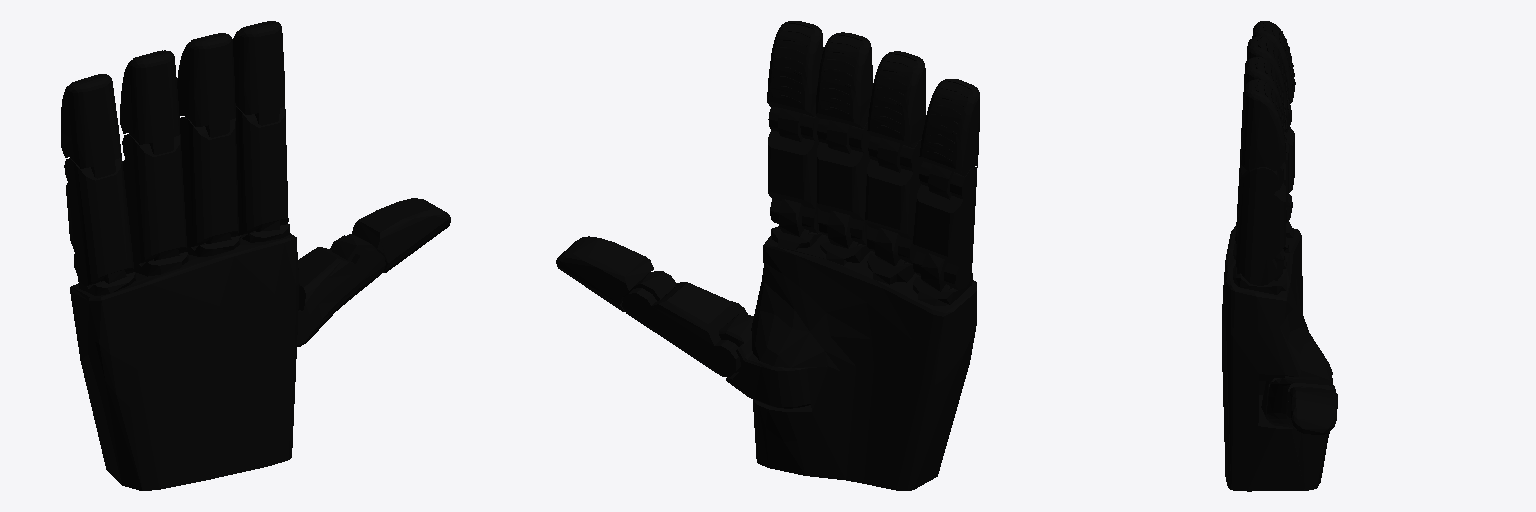
robot.urdf — Left_Hand_C:
<?xml version="1.0"?>
<robot name="Left_Hand_C">

<link name="base_link">
    <inertial>
      <mass value="0.168" />
      <origin xyz="0.00336 0.00299 0.04736" />
      <inertia ixx="0.00016" ixy="0.00000" ixz="0.00002" iyy="0.00025" iyz="0.00001" izz="0.00012" />
    </inertial>
    <visual>
      <geometry>
        <mesh filename="package://igris_c_description_public/meshes/igris_c_hand/Palm_Left.stl" scale="0.01 0.01 0.01"/>
      </geometry>
      <material name="random">
        <color rgba="0.0706 0.0706 0.0706 0.7" />
      </material>
    </visual>
    <collision>
      <geometry>
        <mesh filename="package://igris_c_description_public/meshes/igris_c_hand/Palm_Left.stl" scale="0.01 0.01 0.01"/>
      </geometry>
    </collision>
</link>

<link name="Link_Thumb_Proximal">
    <inertial>
      <mass value="0.018" />
      <origin xyz="0.00704 0.00005 0.01031" />
      <inertia ixx="0.00001" ixy="0.00000" ixz="0.00000" iyy="0.00001" iyz="0.00000" izz="0.00001" />
    </inertial>
    <visual>
      <geometry>
        <mesh filename="package://igris_c_description_public/meshes/igris_c_hand/Thumb_Proximal_Left.stl" scale="0.01 0.01 0.01"/>
      </geometry>
      <material name="random">
        <color rgba="0.0706 0.0706 0.0706 0.7" />
      </material>
    </visual>
    <collision>
      <geometry>
        <mesh filename="package://igris_c_description_public/meshes/igris_c_hand/Thumb_Proximal_Left.stl" scale="0.01 0.01 0.01"/>
      </geometry>
    </collision>
  </link>

  <link name="Link_Thumb_Middle">
    <inertial>
      <mass value="0.019" />
      <origin xyz="0.00154 0.00041 0.01911" />
      <inertia ixx="0.00001" ixy="0.00000" ixz="0.00000" iyy="0.00001" iyz="0.00000" izz="0.00001" />
    </inertial>
    <visual>
      <geometry>
        <mesh filename="package://igris_c_description_public/meshes/igris_c_hand/Thumb_Middle_Left.stl" scale="0.01 0.01 0.01"/>
      </geometry>
      <material name="random">
        <color rgba="0.0706 0.0706 0.0706 0.7" />
      </material>
    </visual>
    <collision>
      <geometry>
        <mesh filename="package://igris_c_description_public/meshes/igris_c_hand/Thumb_Middle_Left.stl" scale="0.01 0.01 0.01"/>
      </geometry>
    </collision>
  </link>

  <link name="Link_Thumb_Distal">
    <inertial>
      <mass value="0.011" />
      <origin xyz="0.00017 -0.00047 0.01843" />
      <inertia ixx="0.00001" ixy="0.00000" ixz="0.00000" iyy="0.00001" iyz="0.00000" izz="0.00001" />
    </inertial>
    <visual>
      <geometry>
        <mesh filename="package://igris_c_description_public/meshes/igris_c_hand/Thumb_Distal_Left.stl" scale="0.01 0.01 0.01"/>
      </geometry>
      <material name="random">
        <color rgba="0.0706 0.0706 0.0706 0.7" />
      </material>
    </visual>
    <collision>
      <geometry>
        <mesh filename="package://igris_c_description_public/meshes/igris_c_hand/Thumb_Distal_Left.stl" scale="0.01 0.01 0.01"/>
      </geometry>
    </collision>
  </link>

  <link name="Link_Index_Middle">
    <inertial>
      <mass value="0.018" />
      <origin xyz="0.00010 0.00031 0.02005" />
      <inertia ixx="0.00001" ixy="0.00000" ixz="0.00000" iyy="0.00001" iyz="0.00000" izz="0.00001" />
    </inertial>
    <visual>
      <geometry>
        <mesh filename="package://igris_c_description_public/meshes/igris_c_hand/Finger_Middle.stl" scale="0.01 0.01 0.01"/>
      </geometry>
      <material name="random">
        <color rgba="0.0706 0.0706 0.0706 0.7" />
      </material>
    </visual>
    <collision>
      <geometry>
        <mesh filename="package://igris_c_description_public/meshes/igris_c_hand/Finger_Middle.stl" scale="0.01 0.01 0.01"/>
      </geometry>
    </collision>
  </link>

   <link name="Link_Middle_Middle">
    <inertial>
      <mass value="0.018" />
      <origin xyz="0.00010 0.00031 0.02005" />
      <inertia ixx="0.00001" ixy="0.00000" ixz="0.00000" iyy="0.00001" iyz="0.00000" izz="0.00001" />
    </inertial>
    <visual>
      <geometry>
        <mesh filename="package://igris_c_description_public/meshes/igris_c_hand/Finger_Middle.stl" scale="0.01 0.01 0.01"/>
      </geometry>
      <material name="random">
        <color rgba="0.0706 0.0706 0.0706 0.7" />
      </material>
    </visual>
    <collision>
      <geometry>
        <mesh filename="package://igris_c_description_public/meshes/igris_c_hand/Finger_Middle.stl" scale="0.01 0.01 0.01"/>
      </geometry>
    </collision>
  </link>

<link name="Link_Ring_Middle">
    <inertial>
      <mass value="0.018" />
      <origin xyz="0.00010 0.00031 0.02005" />
      <inertia ixx="0.00001" ixy="0.00000" ixz="0.00000" iyy="0.00001" iyz="0.00000" izz="0.00001" />
    </inertial>
    <visual>
      <geometry>
        <mesh filename="package://igris_c_description_public/meshes/igris_c_hand/Finger_Middle.stl" scale="0.01 0.01 0.01"/>
      </geometry>
      <material name="random">
        <color rgba="0.0706 0.0706 0.0706 0.7" />
      </material>
    </visual>
    <collision>
      <geometry>
        <mesh filename="package://igris_c_description_public/meshes/igris_c_hand/Finger_Middle.stl" scale="0.01 0.01 0.01"/>
      </geometry>
    </collision>
  </link>

 <link name="Link_Little_Middle">
    <inertial>
      <mass value="0.018" />
      <origin xyz="0.00010 0.00031 0.02005" />
      <inertia ixx="0.00001" ixy="0.00000" ixz="0.00000" iyy="0.00001" iyz="0.00000" izz="0.00001" />
    </inertial>
    <visual>
      <geometry>
        <mesh filename="package://igris_c_description_public/meshes/igris_c_hand/Finger_Middle.stl" scale="0.01 0.01 0.01"/>
      </geometry>
      <material name="random">
        <color rgba="0.0706 0.0706 0.0706 0.7" />
      </material>
    </visual>
    <collision>
      <geometry>
        <mesh filename="package://igris_c_description_public/meshes/igris_c_hand/Finger_Middle.stl" scale="0.01 0.01 0.01"/>
      </geometry>
    </collision>
  </link>

 <link name="Link_Index_Distal">
    <inertial>
      <mass value="0.012" />
      <origin xyz="0.00013 -0.00035 0.01857" />
      <inertia ixx="0.00001" ixy="0.00000" ixz="0.00000" iyy="0.00001" iyz="0.00000" izz="0.00001" />
    </inertial>
    <visual>
      <geometry>
        <mesh filename="package://igris_c_description_public/meshes/igris_c_hand/Finger_Distal.stl" scale="0.01 0.01 0.01"/>
      </geometry>
      <material name="random">
        <color rgba="0.0706 0.0706 0.0706 0.7" />
      </material>
    </visual>
    <collision>
      <geometry>
        <mesh filename="package://igris_c_description_public/meshes/igris_c_hand/Finger_Distal.stl" scale="0.01 0.01 0.01"/>
      </geometry>
    </collision>
  </link>

  <link name="Link_Middle_Distal">
    <inertial>
      <mass value="0.012" />
      <origin xyz="0.00013 -0.00035 0.01857" />
      <inertia ixx="0.00001" ixy="0.00000" ixz="0.00000" iyy="0.00001" iyz="0.00000" izz="0.00001" />
    </inertial>
    <visual>
      <geometry>
        <mesh filename="package://igris_c_description_public/meshes/igris_c_hand/Finger_Distal.stl" scale="0.01 0.01 0.01"/>
      </geometry>
      <material name="random">
        <color rgba="0.0706 0.0706 0.0706 0.7" />
      </material>
    </visual>
    <collision>
      <geometry>
        <mesh filename="package://igris_c_description_public/meshes/igris_c_hand/Finger_Distal.stl" scale="0.01 0.01 0.01"/>
      </geometry>
    </collision>
  </link>

    <link name="Link_Ring_Distal">
    <inertial>
      <mass value="0.012" />
      <origin xyz="0.00013 -0.00035 0.01857" />
      <inertia ixx="0.00001" ixy="0.00000" ixz="0.00000" iyy="0.00001" iyz="0.00000" izz="0.00001" />
    </inertial>
    <visual>
      <geometry>
        <mesh filename="package://igris_c_description_public/meshes/igris_c_hand/Finger_Distal.stl" scale="0.01 0.01 0.01"/>
      </geometry>
      <material name="random">
        <color rgba="0.0706 0.0706 0.0706 0.7" />
      </material>
    </visual>
    <collision>
      <geometry>
        <mesh filename="package://igris_c_description_public/meshes/igris_c_hand/Finger_Distal.stl" scale="0.01 0.01 0.01"/>
      </geometry>
    </collision>
  </link>

   <link name="Link_Little_Distal">
    <inertial>
      <mass value="0.012" />
      <origin xyz="0.00013 -0.00035 0.01857" />
      <inertia ixx="0.00001" ixy="0.00000" ixz="0.00000" iyy="0.00001" iyz="0.00000" izz="0.00001" />
    </inertial>
    <visual>
      <geometry>
        <mesh filename="package://igris_c_description_public/meshes/igris_c_hand/Finger_Distal.stl" scale="0.01 0.01 0.01"/>
      </geometry>
      <material name="random">
        <color rgba="0.0706 0.0706 0.0706 0.7" />
      </material>
    </visual>
    <collision>
      <geometry>
        <mesh filename="package://igris_c_description_public/meshes/igris_c_hand/Finger_Distal.stl" scale="0.01 0.01 0.01"/>
      </geometry>
    </collision>
  </link>


  <!-- <link name="Link_">
    <inertial>
      <mass value="" />
      <origin xyz=" " />
      <inertia ixx="0.00001" ixy="0.00000" ixz="0.00000" iyy="0.00001" iyz="0.00000" izz="0.00001" />
    </inertial>
    <visual>
      <geometry>
        <mesh filename="package://igris_c_description_public/meshes/igris_c_hand/.stl" scale="0.01 0.01 0.01"/>
      </geometry>
      <material name="random">
        <color rgba="0.0706 0.0706 0.0706 0.7" />
      </material>
    </visual>
    <collision>
      <geometry>
        <mesh filename="package://igris_c_description_public/meshes/igris_c_hand/.stl" scale="0.01 0.01 0.01"/>
      </geometry>
    </collision>
  </link> -->


  <joint name="0_Joint_Thumb_Proximal" type="revolute">
    <parent link="base_link" />
    <child link="Link_Thumb_Proximal" />
    <origin xyz="0.026 0.0132 0.0299" rpy="-0.08726646 0 0" />
    <axis xyz="0 0 1" />
    <limit lower="0" upper="1.727875959" effort="1000" velocity="5.0" />
  </joint>
 
  <joint name="1_Joint_Thumb_Middle" type="revolute">
    <parent link="Link_Thumb_Proximal" />
    <child link="Link_Thumb_Middle" />
    <origin xyz="0.0230 0.0036 0.015" rpy="-1.22173048 0 -1.57079633" />
    <axis xyz="1 0 0" />
    <limit lower="0" upper="1.221730476" effort="1000" velocity="5.0" />
  </joint>

  <joint name="2_Joint_Thumb_Distal" type="revolute">
    <parent link="Link_Thumb_Middle" />
    <child link="Link_Thumb_Distal" />
    <origin xyz="0 -0.001 0.04" rpy="0 0 0" />
    <axis xyz="1 0 0" />
    <limit lower="0" upper="1.570796327" effort="1000" velocity="5.0" />
  </joint>

  <joint name="3_Joint_Index_Middle" type="revolute">
    <parent link="base_link" />
    <child link="Link_Index_Middle" />
    <origin xyz="0.0305 -0.002 0.101" rpy="0 0 3.141592654" />
    <axis xyz="1 0 0" />
    <limit lower="0" upper="1.570796327" effort="1000" velocity="5.0" />
  </joint>

  <joint name="4_Joint_Index_Distal" type="revolute">
    <parent link="Link_Index_Middle" />
    <child link="Link_Index_Distal" />
    <origin xyz="0 -0.001 0.04" rpy="0 0 0" />
    <axis xyz="1 0 0" />
    <limit lower="0" upper="1.570796327" effort="1000" velocity="5.0" />
  </joint>

  <joint name="5_Joint_Middle_Middle" type="revolute">
    <parent link="base_link" />
    <child link="Link_Middle_Middle" />
    <origin xyz="0.0085 -0.002 0.101" rpy="0 0 3.141592654" />
    <axis xyz="1 0 0" />
    <limit lower="0" upper="1.570796327" effort="1000" velocity="5.0" />
  </joint>

  <joint name="6_Joint_Middle_Distal" type="revolute">
    <parent link="Link_Middle_Middle" />
    <child link="Link_Middle_Distal" />
    <origin xyz="0 -0.001 0.04" rpy="0 0 0" />
    <axis xyz="1 0 0" />
    <limit lower="0" upper="1.570796327" effort="1000" velocity="5.0" />
  </joint>

  <joint name="7_Joint_Ring_Middle" type="revolute">
    <parent link="base_link" />
    <child link="Link_Ring_Middle" />
    <origin xyz="-0.0139 -0.0010 0.0990" rpy="-0.0012187167 0.0348853123 3.1066648087" />
    <axis xyz="1 0 0" />
    <limit lower="0" upper="1.570796327" effort="1000" velocity="5.0" />
  </joint>

  <joint name="8_Joint_Ring_Distal" type="revolute">
    <parent link="Link_Ring_Middle" />
    <child link="Link_Ring_Distal" />
    <origin xyz="0 -0.001 0.04" rpy="0 0 0" />
    <axis xyz="1 0 0" />
    <limit lower="0" upper="1.570796327" effort="1000" velocity="5.0" />
  </joint>

  <joint name="9_Joint_Little_Middle" type="revolute">
    <parent link="base_link" />
    <child link="Link_Little_Middle" />
    <origin xyz="-0.0362 0.0012 0.0942" rpy="-0.0027489469 0.0872104915 3.0890809133" />
    <axis xyz="1 0 0" />
    <limit lower="0" upper="1.570796327" effort="1000" velocity="5.0" />
  </joint>

  <joint name="10_Joint_Little_Distal" type="revolute">
    <parent link="Link_Little_Middle" />
    <child link="Link_Little_Distal" />
    <origin xyz="0 -0.001 0.04" rpy="0 0 0" />
    <axis xyz="1 0 0" />
    <limit lower="0" upper="1.570796327" effort="1000" velocity="5.0" />
  </joint>


  <!-- <joint name="Joint_" type="revolute">
    <parent link="Link_" />
    <child link="Link_" />
    <origin xyz=" " rpy="0 0 0" />
    <axis xyz=" " />
    <limit lower="-1.570796327" upper="1.570796327" effort="1000" velocity="5.0" />
  </joint> -->
  

</robot>

--- What the picture shows (computed from the rendered views, not written in the file) ---
3 views of the same robot in one strip: view 1: azimuth 30°, elevation 25°; view 2: azimuth 150°, elevation 25°; view 3: azimuth 270°, elevation 25° (orthographic).
Robot: Left_Hand_C — 12 links, 11 joints (11 revolute); root link base_link; default pose: all joints at 0.
Visible links, largest first — view 1: base_link, Link_Little_Middle, Link_Ring_Middle, Link_Middle_Middle, Link_Index_Middle, Link_Ring_Distal, Link_Little_Distal, Link_Middle_Distal, Link_Thumb_Middle, Link_Index_Distal, Link_Thumb_Distal; view 2: base_link, Link_Thumb_Middle, Link_Little_Middle, Link_Little_Distal, Link_Ring_Distal, Link_Middle_Distal, Link_Index_Distal, Link_Thumb_Distal, Link_Ring_Middle, Link_Middle_Middle, Link_Index_Middle, Link_Thumb_Proximal; view 3: base_link, Link_Index_Middle, Link_Index_Distal, Link_Thumb_Distal, Link_Thumb_Middle, Link_Little_Distal, Link_Ring_Distal, Link_Middle_Distal.
Link boxes in pixels (x1,y1,x2,y2): base_link: [70, 220, 299, 490]; Link_Little_Middle: [64, 157, 133, 285]; Link_Ring_Middle: [122, 134, 186, 263]; Link_Middle_Middle: [180, 117, 238, 247]; Link_Index_Middle: [236, 106, 288, 235]; Link_Ring_Distal: [120, 50, 179, 154]; Link_Little_Distal: [61, 74, 121, 178]; Link_Middle_Distal: [177, 33, 235, 137]; Link_Thumb_Middle: [297, 235, 385, 346]; Link_Index_Distal: [233, 21, 284, 125]; Link_Thumb_Distal: [332, 198, 450, 272]; base_link: [751, 199, 976, 490]; Link_Thumb_Middle: [622, 271, 753, 376]; Link_Little_Middle: [913, 161, 977, 289]; Link_Little_Distal: [919, 79, 979, 199]; Link_Ring_Distal: [867, 51, 925, 172]; Link_Middle_Distal: [816, 32, 872, 153]; Link_Index_Distal: [767, 21, 823, 141]; Link_Thumb_Distal: [556, 236, 675, 311]; Link_Ring_Middle: [865, 136, 922, 263]; Link_Middle_Middle: [817, 119, 870, 245]; Link_Index_Middle: [768, 107, 820, 233]; Link_Thumb_Proximal: [719, 314, 810, 408]; base_link: [1222, 194, 1332, 491]; Link_Index_Middle: [1236, 167, 1285, 285]; Link_Index_Distal: [1241, 79, 1286, 190]; Link_Thumb_Distal: [1287, 386, 1337, 434]; Link_Thumb_Middle: [1266, 378, 1335, 428]; Link_Little_Distal: [1252, 21, 1295, 131]; Link_Ring_Distal: [1246, 36, 1289, 132]; Link_Middle_Distal: [1241, 57, 1286, 150].
Bounding box of the posed robot: 0.1776 × 0.0479 × 0.1813 m (x, y, z).
Meshes: 6 distinct files referenced, 12 mesh visuals loaded (6 binary STL).